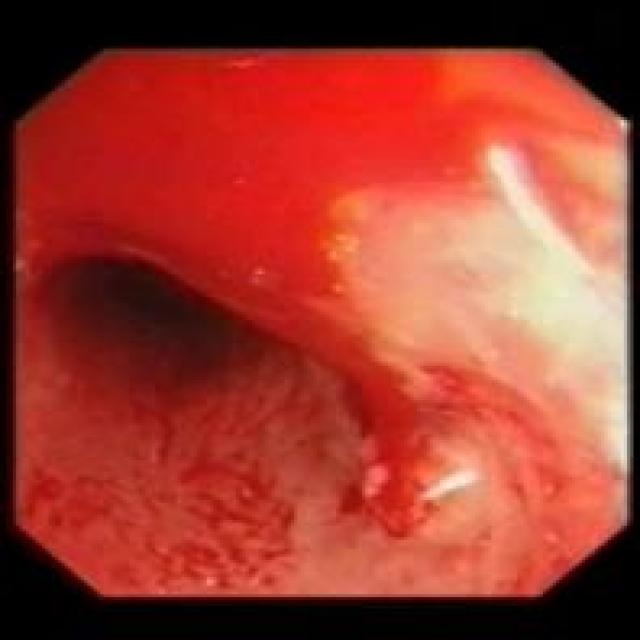blood: (22, 58, 529, 563)
contrast: (50, 253, 222, 393)
saturation: (16, 48, 628, 328), (343, 144, 628, 494)
specularity: (421, 469, 478, 501)
